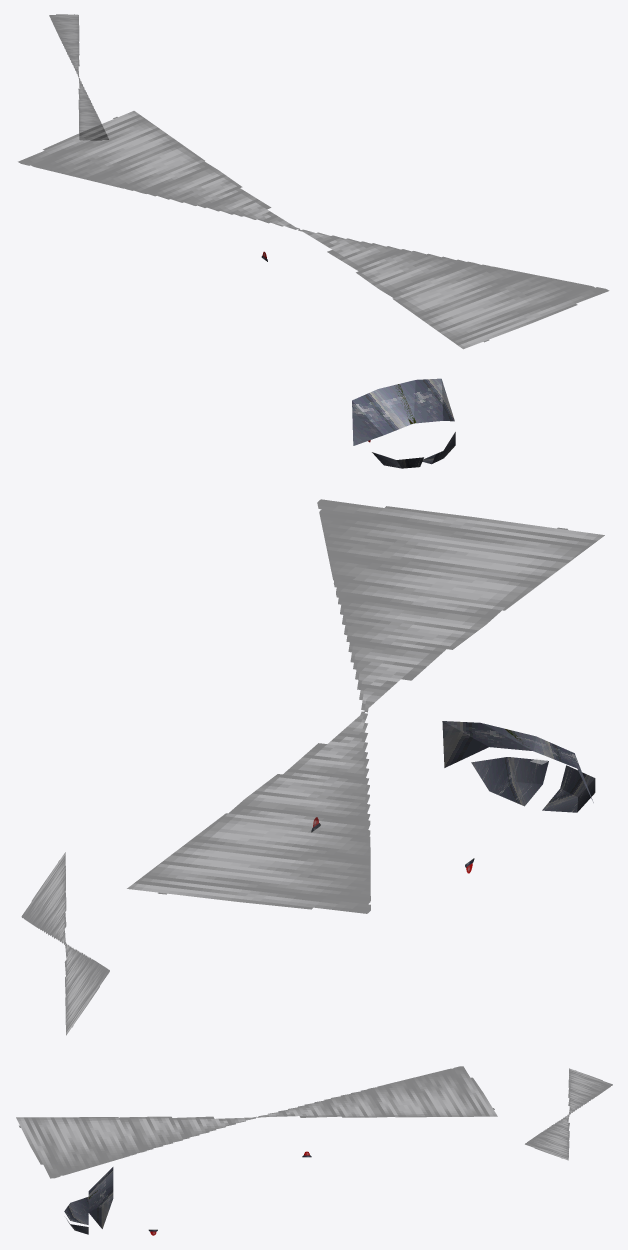
The model's file is helicopter_secondary.glb.
The picture shows the model from 3 angles, top to bottom: view 1: azimuth 30°, elevation 25°; view 2: azimuth 150°, elevation 25°; view 3: azimuth 270°, elevation 25°; orthographic projection. The views are drawn at different scales.
Parts seen in each view (by area): view 1: Object; view 2: Object; view 3: Object.
Part boxes in pixels (<box>): Object: <box>18,14,608,468</box>; Object: <box>21,499,604,1035</box>; Object: <box>16,1066,612,1235</box>.
Size of the model in its own units: 9.25 by 6.2 by 20.45.
12 materials, 12 textured.
